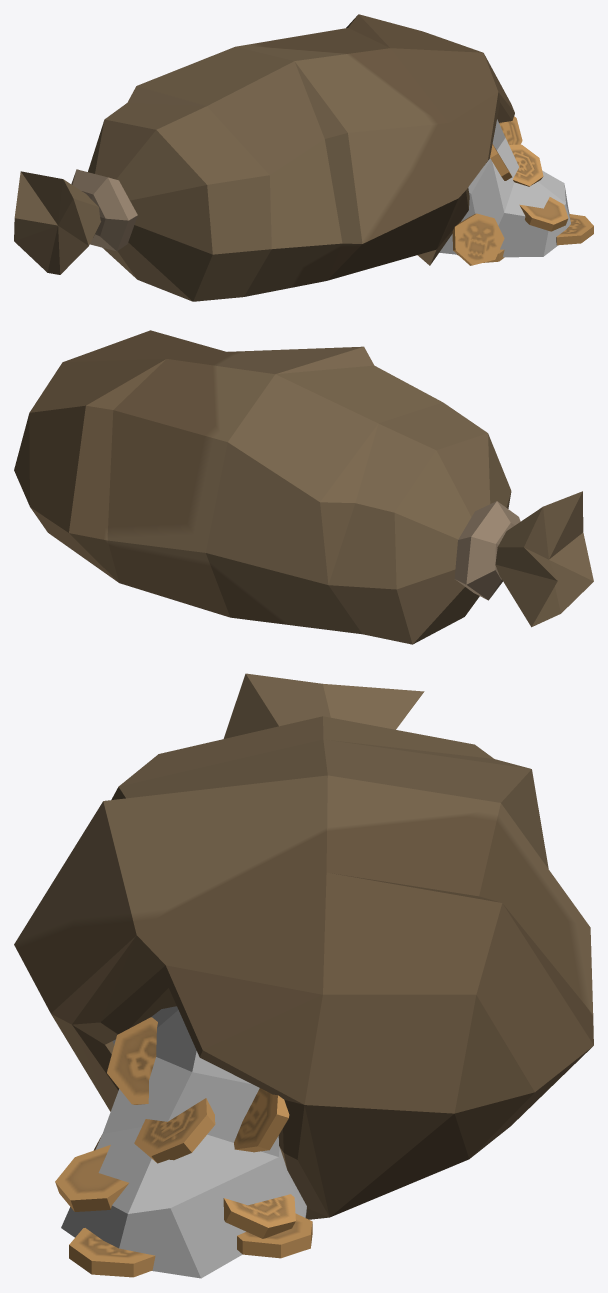
File: SM_Prop_Coin_Sack_02.fbx
3 renders of one model, top to bottom at view 1: azimuth 30°, elevation 25°; view 2: azimuth 150°, elevation 25°; view 3: azimuth 270°, elevation 25°, orthographic. The views are drawn at different scales.
Parts seen in each view (by area): view 1: SM_Prop_Coin_Sack_02; view 2: SM_Prop_Coin_Sack_02; view 3: SM_Prop_Coin_Sack_02.
Part boxes in pixels (box(x1,y1,x2,y2)): SM_Prop_Coin_Sack_02: box(14, 14, 593, 301); SM_Prop_Coin_Sack_02: box(14, 330, 593, 644); SM_Prop_Coin_Sack_02: box(14, 673, 593, 1278).
Bounding box in the file's own units: 94.22 × 33.6 × 55.17.
